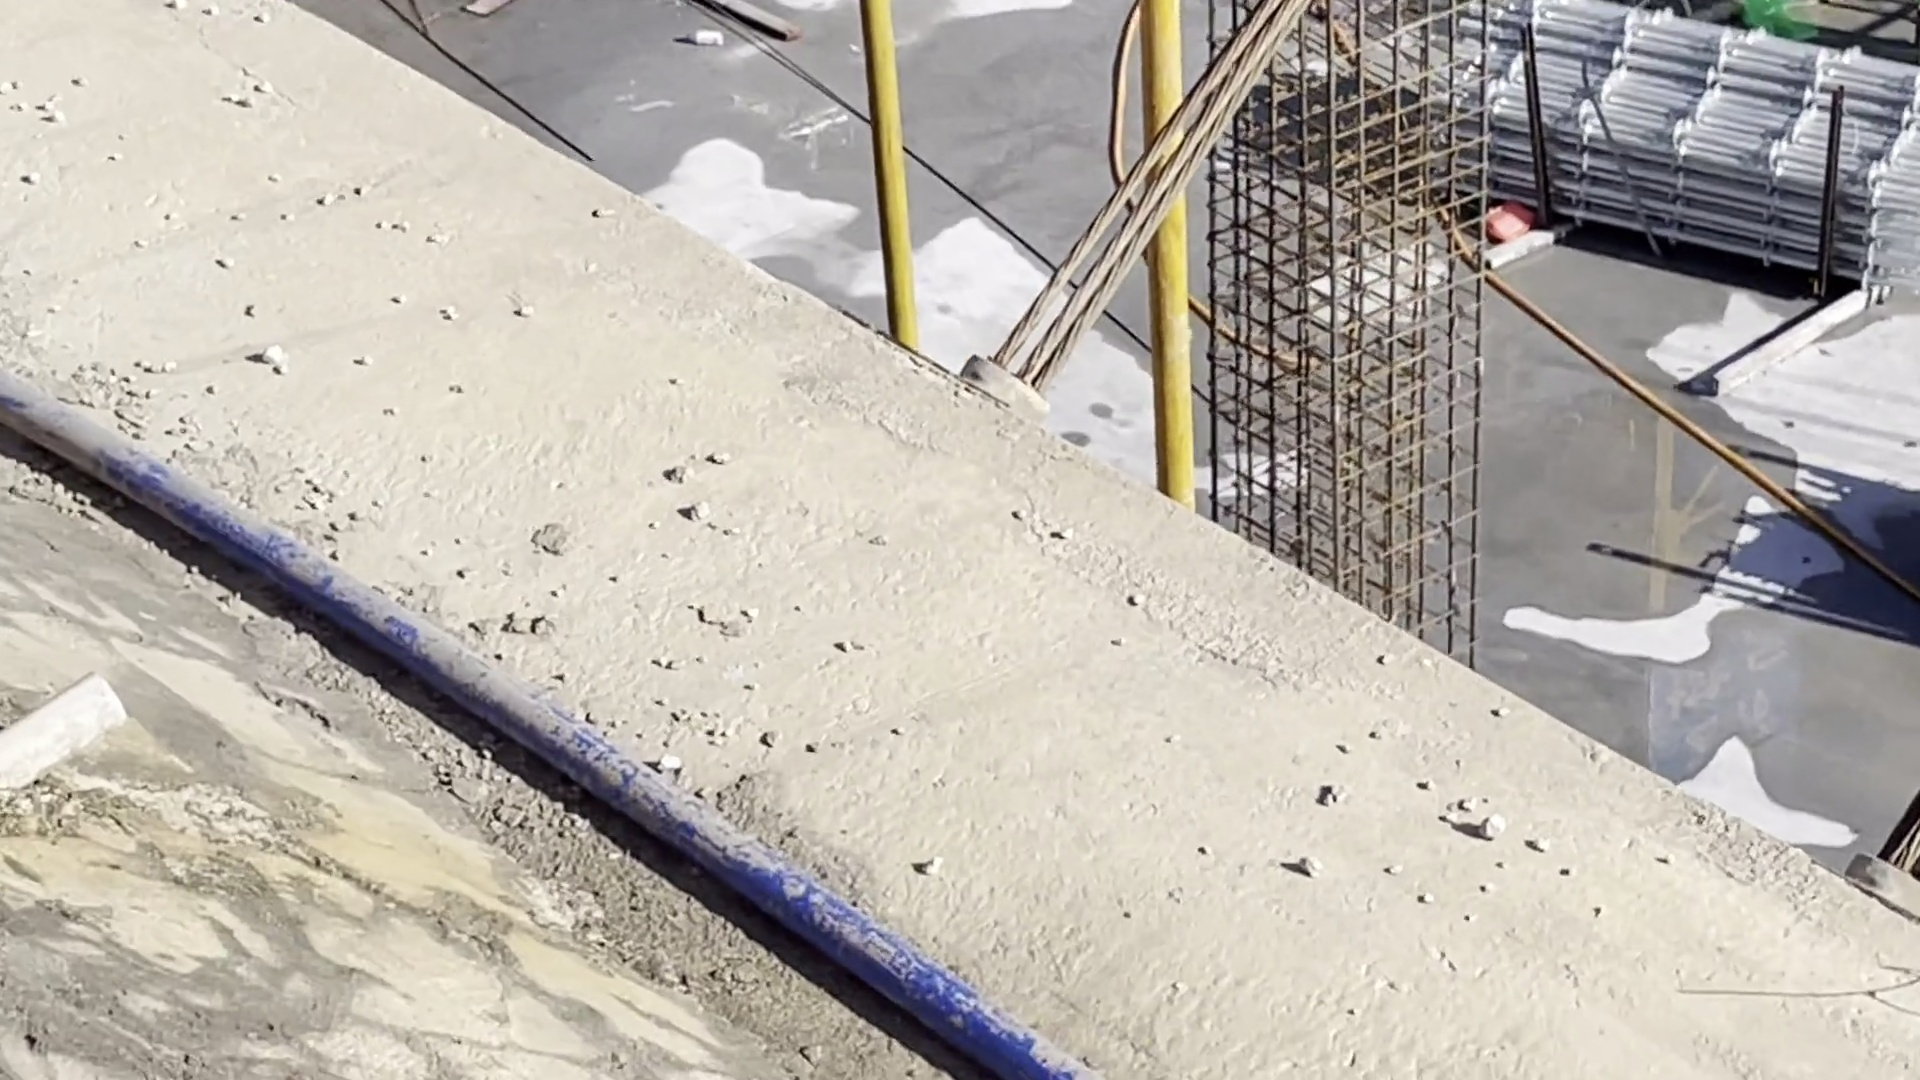scaffold: (1425, 9, 1920, 306)
